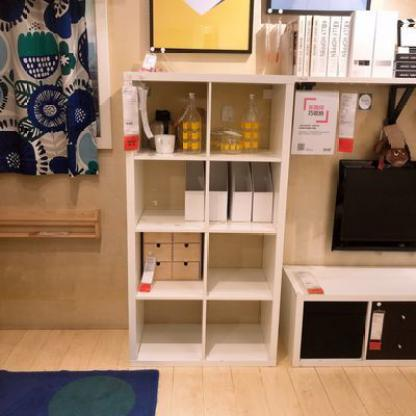lamp: (122, 67, 297, 374), (281, 258, 415, 365)
